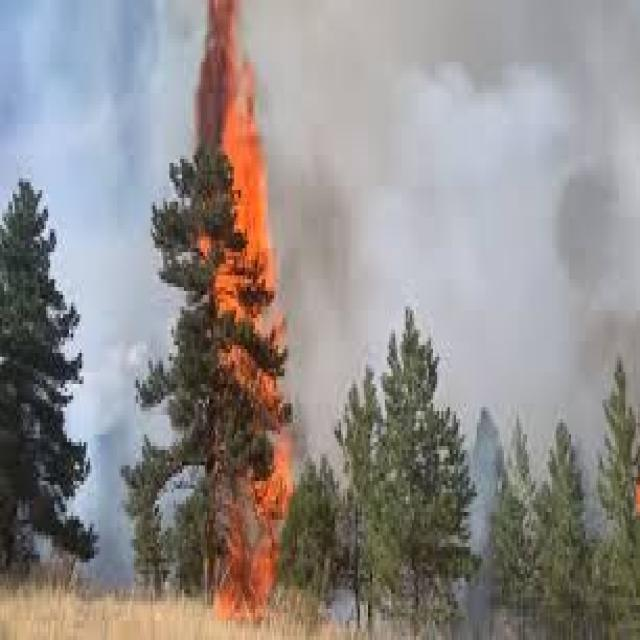Fire: (192, 0, 298, 623)
Smoke: (280, 148, 356, 322)
